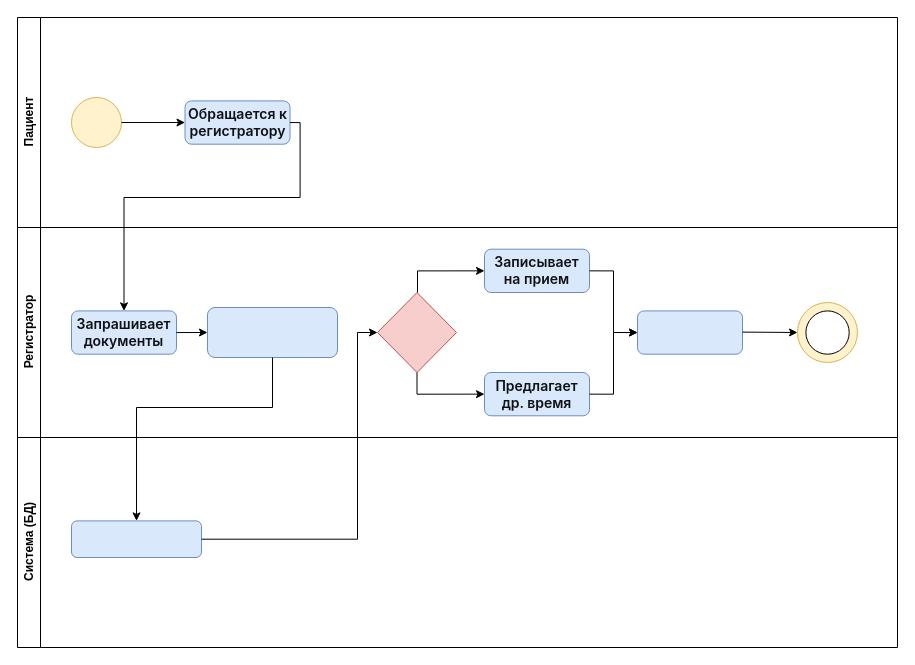
Some shapes in this 915 by 665 pixel diagram are drawn without their labels. Each missing label, with the centre of its shape:
"Выдает талон" goes at (x=689, y=332).
"Есть талон?" goes at (x=416, y=332).
"Поиск свободных слотов" goes at (x=136, y=539).
"Проверяет талоны в системе" goes at (x=272, y=332).
